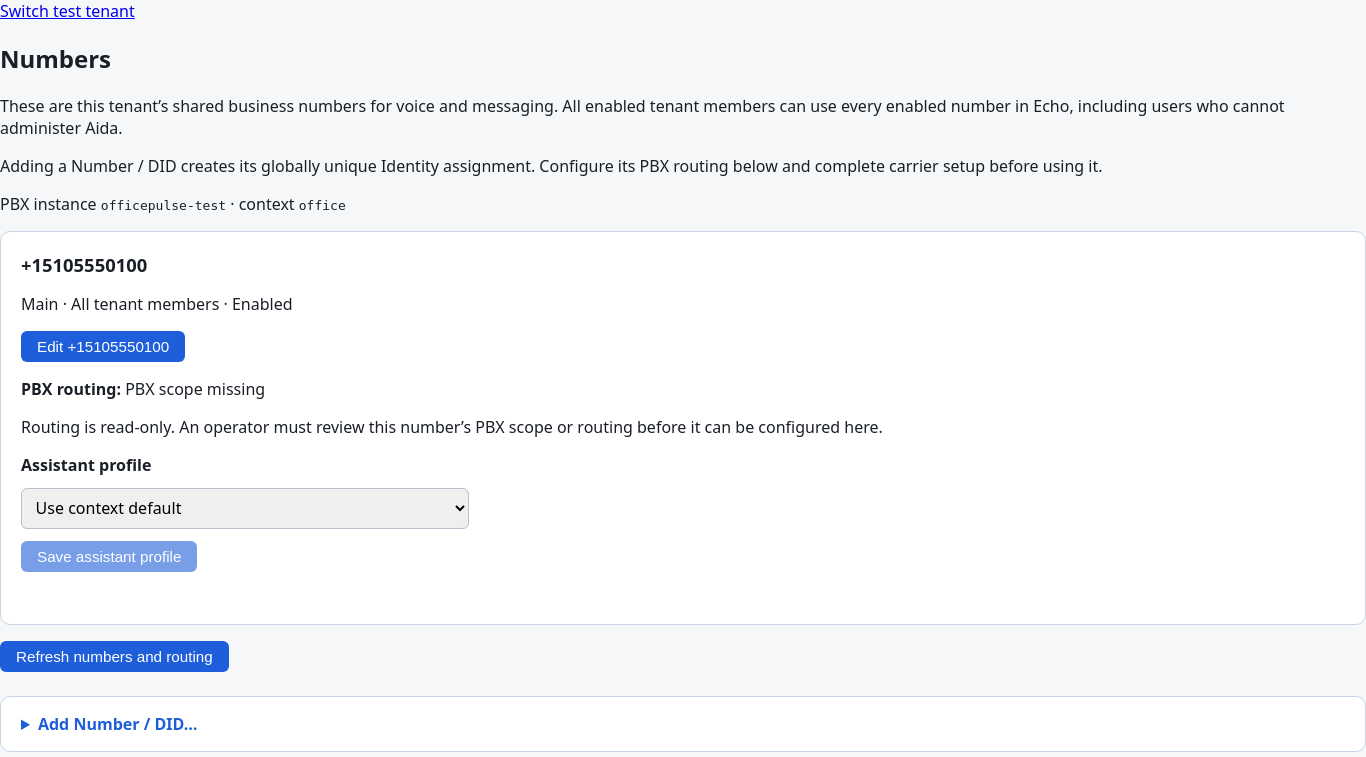
Test: unified Numbers routing › preserves an assigned number with missing PBX scope and prefills settings when scope later appears
Check: the element "+15105550100" shows "PBX scope missing", box [125,378,265,400]
What coordinates should you click on to do the following:
click the button "Refresh numbers and routing"
I would click on:
 (114, 657)
Its box is [0,641,229,672].
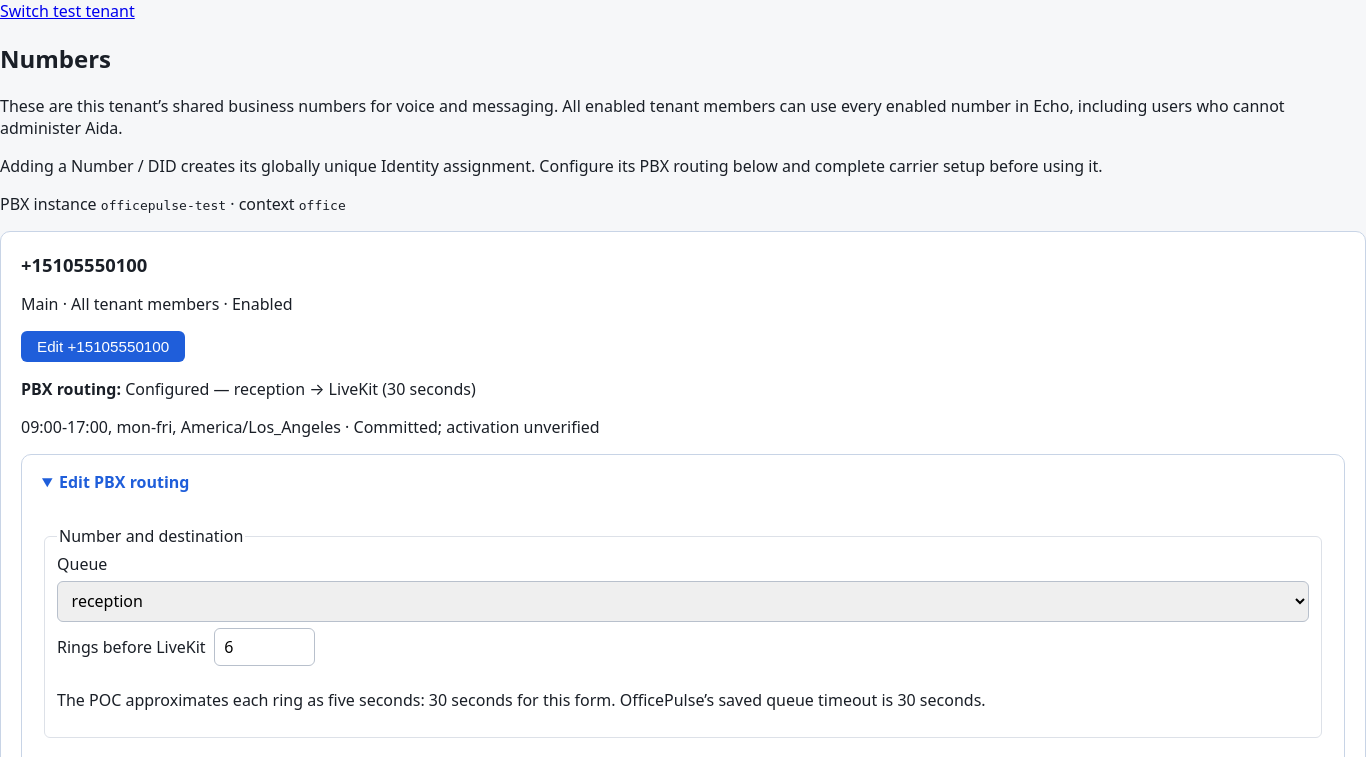
Check: the dropdown labelled "Queue" shows "reception", box [57,581,1309,622]
